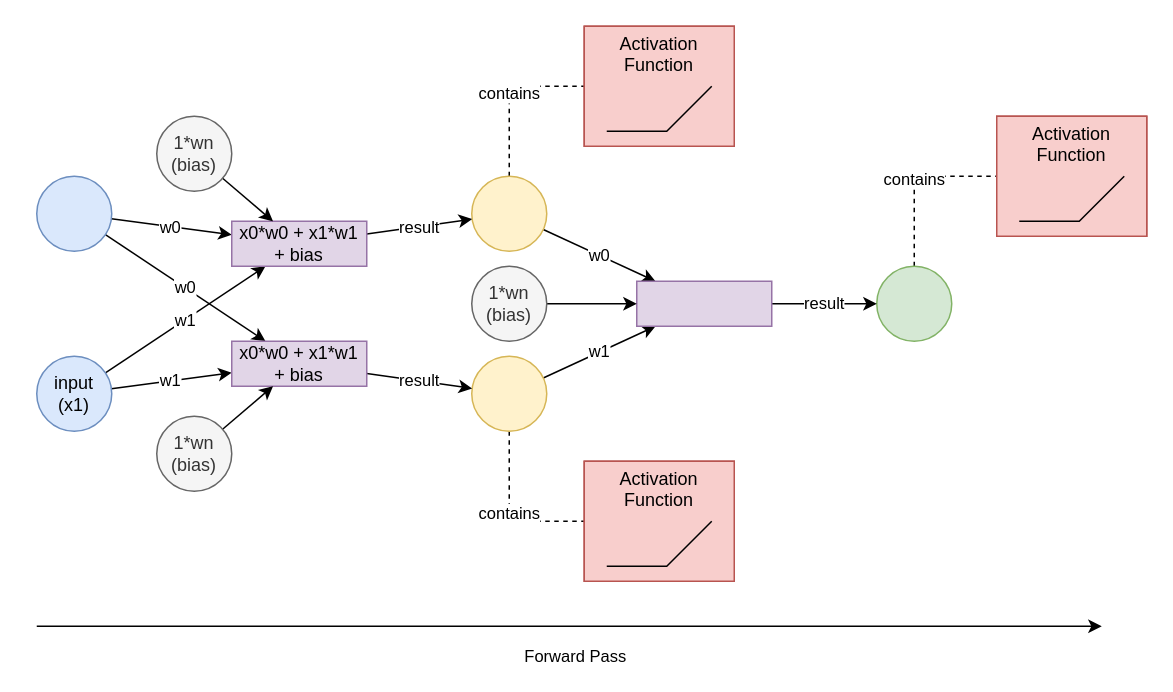
Some shapes in this 1173 by 692 pixel diagram are drawn without their labels. Here are the shapes that lost their labels. From the top down, the centre of each, then its label:
point 73,213: input (x0)
point 508,213: neuron (h0)
point 703,303: h0*w0 + h1*w1 + bias
point 913,303: output (y0)
point 508,393: neuron (h1)
